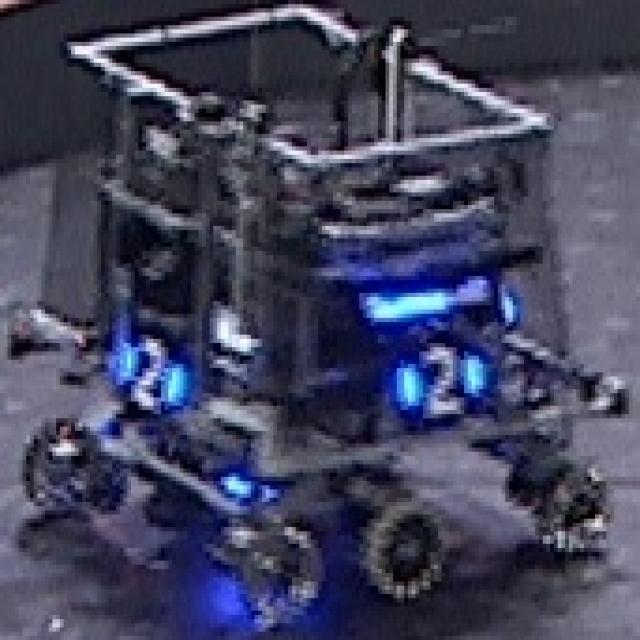B2: (393, 339, 483, 414), (116, 335, 187, 410)
